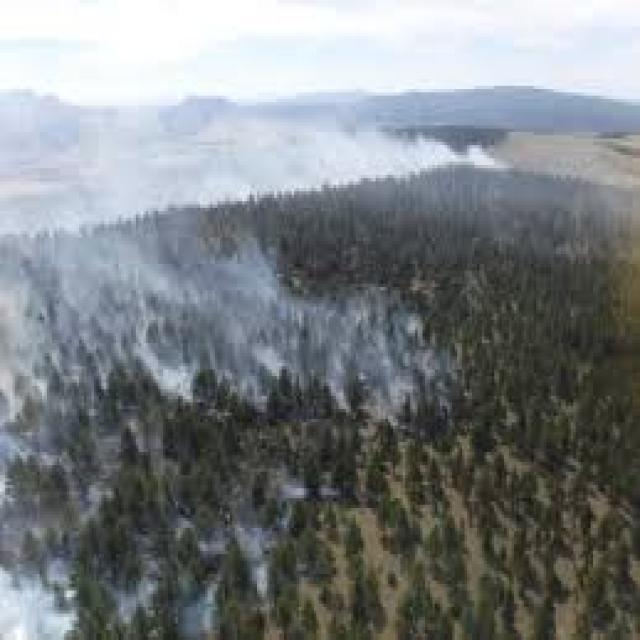Smoke: (0, 0, 315, 640), (0, 0, 474, 422), (0, 29, 507, 262)
